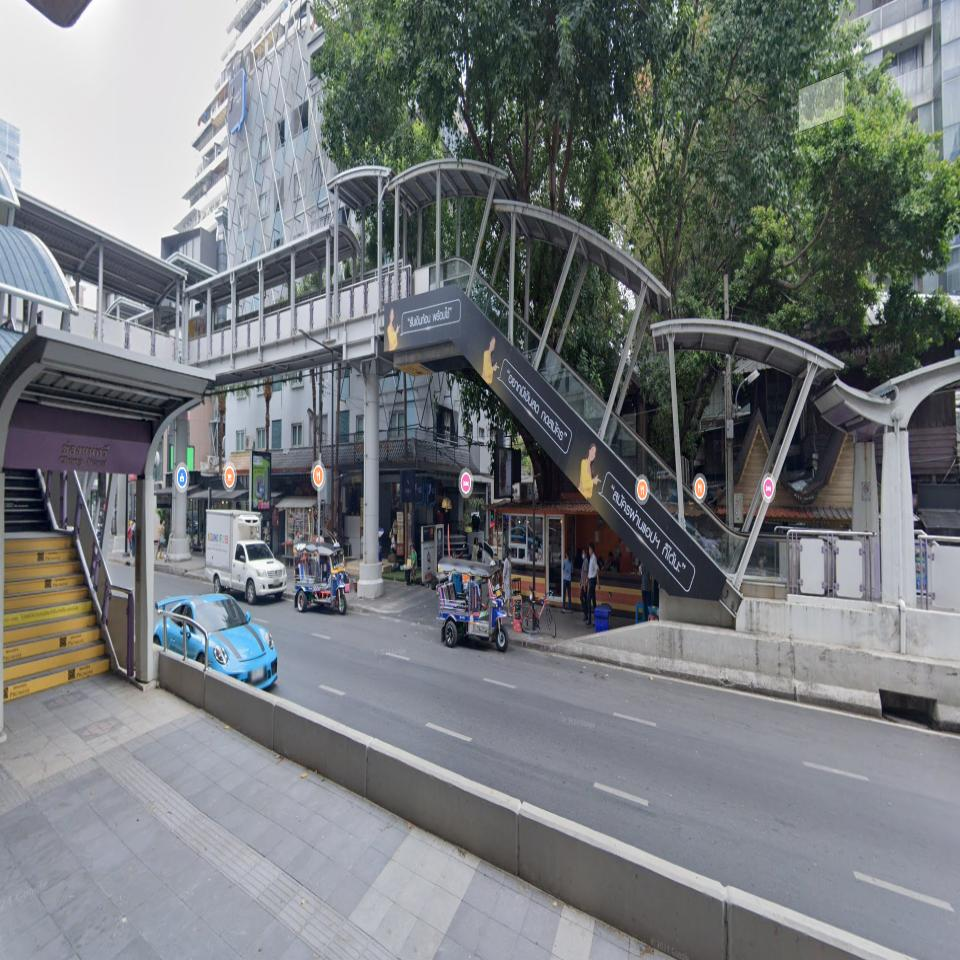Chong Nonsi: (5, 424, 150, 475)
